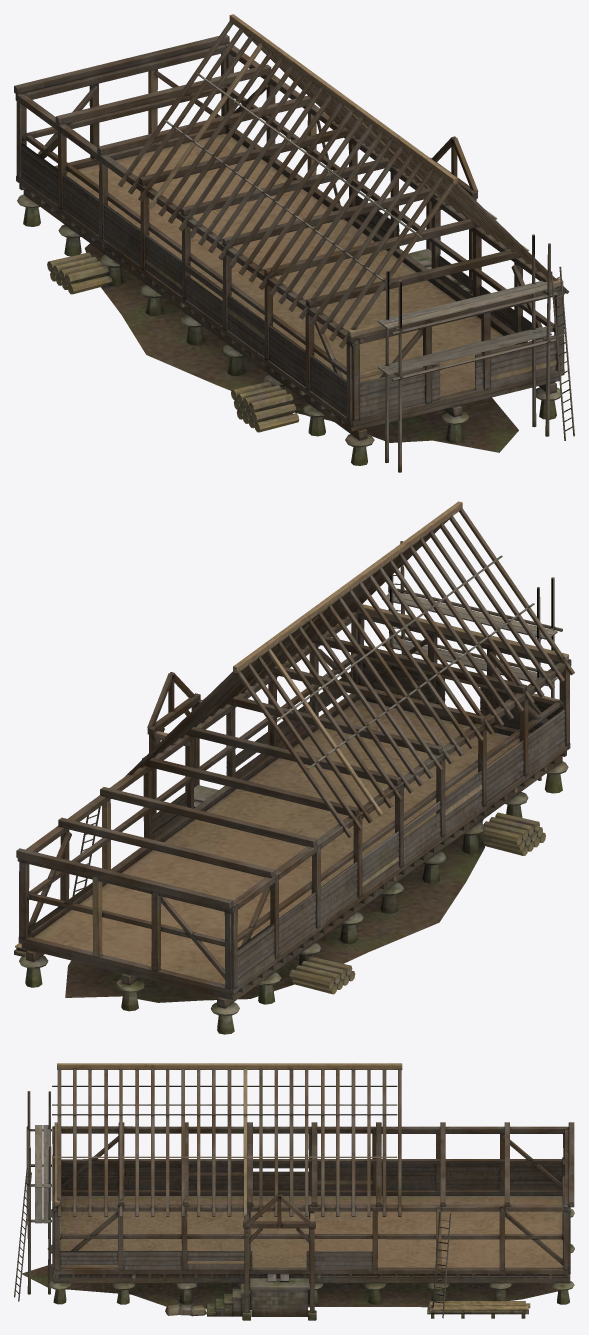
File: granary_build2.glb
3 views of the same model, one above another, from view 1: azimuth 30°, elevation 25°; view 2: azimuth 150°, elevation 25°; view 3: azimuth 270°, elevation 25° (orthographic). The views are drawn at different scales.
Visible parts, largest first — view 1: granary_build2_LOD0; view 2: granary_build2_LOD0; view 3: granary_build2_LOD0.
Boxes of the visible parts, x1,y1,x2,y2 form: granary_build2_LOD0: [14, 14, 574, 472]; granary_build2_LOD0: [14, 501, 574, 1034]; granary_build2_LOD0: [14, 1063, 574, 1320].
Size of what is drawn, in the model's own units: 10.21 by 8.84 by 22.25.
1 material, 1 textured.
